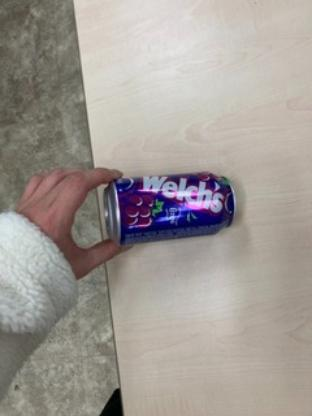Can: (101, 167, 237, 250)
